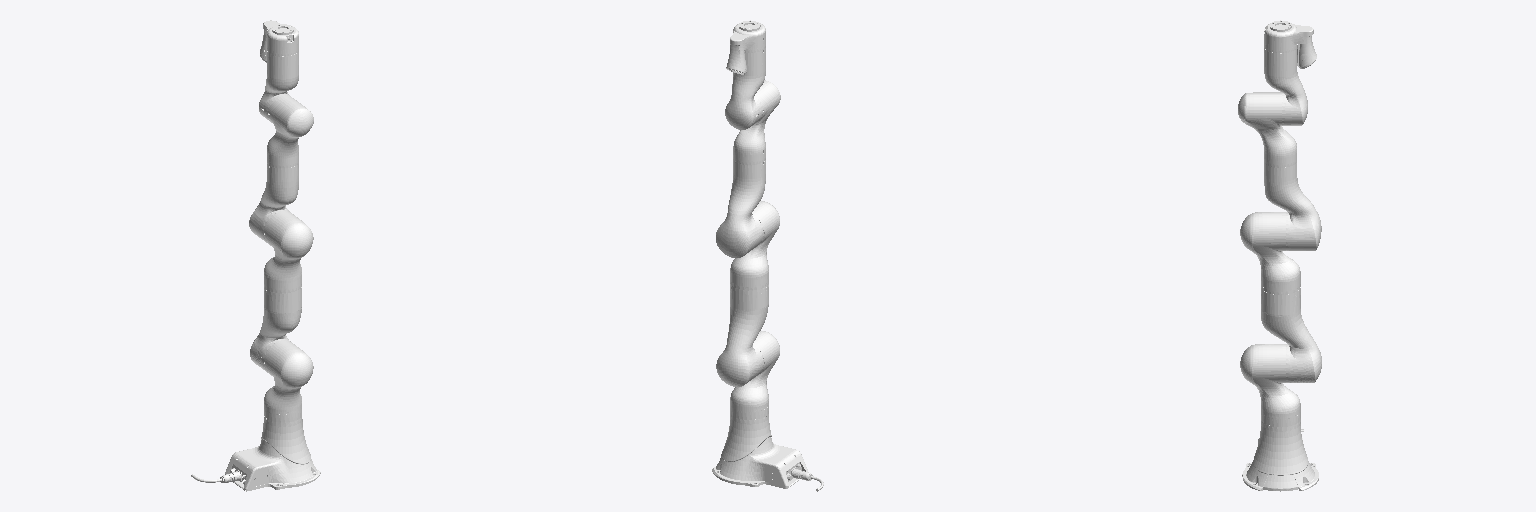
URDF robot description (xmate3p):
<?xml version="1.0" encoding="utf-8"?>
<!-- This URDF was automatically created by SolidWorks to URDF Exporter! Originally created by [author] ([email redacted]) 
     Commit Version: 1.6.0-1-g15f4949  Build Version: 1.6.7594.29634
     For more information, please see http://wiki.ros.org/sw_urdf_exporter -->
<robot
  name="xmate3p">
  <link
    name="base_link">
    <inertial>
      <origin
        xyz="-0.015091360234716 4.56135683096622E-05 0.0624086188001657"
        rpy="0 0 0" />
      <mass
        value="3.14897165663379" />
      <inertia
        ixx="0.0118099957881921"
        ixy="1.05329502958308E-05"
        ixz="-0.0018000843325847"
        iyy="0.0158485547388248"
        iyz="1.08029035443306E-06"
        izz="0.0129719574437711" />
    </inertial>
    <visual>
      <origin
        xyz="0 0 0"
        rpy="0 0 0" />
      <geometry>
        <mesh
          filename="package://model_description/xmate3p/meshes/base_link.STL" />
      </geometry>
      <material
        name="">
        <color
          rgba="1 1 1 1" />
      </material>
    </visual>
    <collision>
      <origin
        xyz="0 0 0"
        rpy="0 0 0" />
      <geometry>
        <mesh
          filename="package://model_description/xmate3p/meshes/base_link.STL" />
      </geometry>
    </collision>
  </link>
  <link
    name="link1">
    <inertial>
      <origin
        xyz="-0.00025922 -0.025215 0.11962"
        rpy="0 0 0" />
      <mass
        value="1.8004" />
      <inertia
        ixx="0.0095699"
        ixy="-5.5922E-07"
        ixz="-5.8571E-07"
        iyy="0.0085643"
        iyz="0.0019573"
        izz="0.0033056" />
    </inertial>
    <visual>
      <origin
        xyz="0 0 0"
        rpy="0 0 0" />
      <geometry>
        <mesh
          filename="package://model_description/xmate3p/meshes/link1.STL" />
      </geometry>
      <material
        name="">
        <color
          rgba="1 1 1 1" />
      </material>
    </visual>
    <collision>
      <origin
        xyz="0 0 0"
        rpy="0 0 0" />
      <geometry>
        <mesh
          filename="package://model_description/xmate3p/meshes/link1.STL" />
      </geometry>
    </collision>
  </link>
  <joint
    name="joint1"
    type="revolute">
    <origin
      xyz="0.0042608 -5.9631E-05 0.16844"
      rpy="0 0 0" />
    <parent
      link="base_link" />
    <child
      link="link1" />
    <axis
      xyz="0 0 1" />
    <limit
      lower="-2.967"
      upper="2.967"
      effort="100"
      velocity="100" />
  </joint>
  <link
    name="link2">
    <inertial>
      <origin
        xyz="-7.71963204856322E-06 0.00806548573205907 0.0949824454097805"
        rpy="0 0 0" />
      <mass
        value="2.1851012084317" />
      <inertia
        ixx="0.0179598444816337"
        ixy="6.72005684992317E-07"
        ixz="-1.92493798049796E-07"
        iyy="0.0162934935793924"
        iyz="0.00456695536940276"
        izz="0.00446693295470817" />
    </inertial>
    <visual>
      <origin
        xyz="0 0 0"
        rpy="0 0 0" />
      <geometry>
        <mesh
          filename="package://model_description/xmate3p/meshes/link2.STL" />
      </geometry>
      <material
        name="">
        <color
          rgba="1 1 1 1" />
      </material>
    </visual>
    <collision>
      <origin
        xyz="0 0 0"
        rpy="0 0 0" />
      <geometry>
        <mesh
          filename="package://model_description/xmate3p/meshes/link2.STL" />
      </geometry>
    </collision>
  </link>
  <joint
    name="joint2"
    type="revolute">
    <origin
      xyz="-0.00026107 0.019633 0.17276"
      rpy="0 0 0" />
    <parent
      link="link1" />
    <child
      link="link2" />
    <axis
      xyz="0 1 0" />
    <limit
      lower="-2.094"
      upper="2.094"
      effort="100"
      velocity="100" />
  </joint>
  <link
    name="link3">
    <inertial>
      <origin
        xyz="1.83491748824072E-06 -0.025268072019476 0.106954324405955"
        rpy="0 0 0" />
      <mass
        value="1.80045507711239" />
      <inertia
        ixx="0.009570539674734"
        ixy="-5.63735078403178E-07"
        ixz="-6.0500648082681E-07"
        iyy="0.00856439929687802"
        iyz="0.00195821644467193"
        izz="0.00330613229822486" />
    </inertial>
    <visual>
      <origin
        xyz="0 0 0"
        rpy="0 0 0" />
      <geometry>
        <mesh
          filename="package://model_description/xmate3p/meshes/link3.STL" />
      </geometry>
      <material
        name="">
        <color
          rgba="1 1 1 1" />
      </material>
    </visual>
    <collision>
      <origin
        xyz="0 0 0"
        rpy="0 0 0" />
      <geometry>
        <mesh
          filename="package://model_description/xmate3p/meshes/link3.STL" />
      </geometry>
    </collision>
  </link>
  <joint
    name="joint3"
    type="revolute">
    <origin
      xyz="0 -0.019574 0.2339"
      rpy="0 0 0" />
    <parent
      link="link2" />
    <child
      link="link3" />
    <axis
      xyz="0 0 1" />
    <limit
      lower="-2.967"
      upper="2.967"
      effort="100"
      velocity="100" />
  </joint>
  <link
    name="link4">
    <inertial>
      <origin
        xyz="2.6565854771058E-06 0.0133168201264488 0.0756674818518959"
        rpy="0 0 0" />
      <mass
        value="1.80003368124098" />
      <inertia
        ixx="0.0130994533098041"
        ixy="1.36284854708963E-07"
        ixz="-5.92055668378373E-07"
        iyy="0.0117535662054175"
        iyz="0.00347706804921294"
        izz="0.00336527705329235" />
    </inertial>
    <visual>
      <origin
        xyz="0 0 0"
        rpy="0 0 0" />
      <geometry>
        <mesh
          filename="package://model_description/xmate3p/meshes/link4.STL" />
      </geometry>
      <material
        name="">
        <color
          rgba="1 1 1 1" />
      </material>
    </visual>
    <collision>
      <origin
        xyz="0 0 0"
        rpy="0 0 0" />
      <geometry>
        <mesh
          filename="package://model_description/xmate3p/meshes/link4.STL" />
      </geometry>
    </collision>
  </link>
  <joint
    name="joint4"
    type="revolute">
    <origin
      xyz="0 0.0196 0.1604"
      rpy="0 0 0" />
    <parent
      link="link3" />
    <child
      link="link4" />
    <axis
      xyz="0 1 0" />
    <limit
      lower="-2.094"
      upper="2.094"
      effort="100"
      velocity="100" />
  </joint>
  <link
    name="link5">
    <inertial>
      <origin
        xyz="1.25130563160484E-05 -0.0312770106676637 0.10470207994546"
        rpy="0 0 0" />
      <mass
        value="1.29595892372392" />
      <inertia
        ixx="0.00598570038305338"
        ixy="-4.67875753164966E-07"
        ixz="5.61444849450011E-07"
        iyy="0.00489860850115636"
        iyz="0.00152659864778688"
        izz="0.00226768548743438" />
    </inertial>
    <visual>
      <origin
        xyz="0 0 0"
        rpy="0 0 0" />
      <geometry>
        <mesh
          filename="package://model_description/xmate3p/meshes/link5.STL" />
      </geometry>
      <material
        name="">
        <color
          rgba="1 1 1 1" />
      </material>
    </visual>
    <collision>
      <origin
        xyz="0 0 0"
        rpy="0 0 0" />
      <geometry>
        <mesh
          filename="package://model_description/xmate3p/meshes/link5.STL" />
      </geometry>
    </collision>
  </link>
  <joint
    name="joint5"
    type="revolute">
    <origin
      xyz="0 -0.0196 0.2156"
      rpy="0 0 0" />
    <parent
      link="link4" />
    <child
      link="link5" />
    <axis
      xyz="0 0 1" />
    <limit
      lower="-2.967"
      upper="2.967"
      effort="100"
      velocity="100" />
  </joint>
  <link
    name="link6">
    <inertial>
      <origin
        xyz="1.11743579776372E-05 0.00542778918890232 0.0842925312965763"
        rpy="0 0 0" />
      <mass
        value="1.22513525609944" />
      <inertia
        ixx="0.0062839615268434"
        ixy="-1.43677994204335E-07"
        ixz="3.43793365441653E-07"
        iyy="0.00598571888406249"
        iyz="0.00128424062046448"
        izz="0.00146487804256938" />
    </inertial>
    <visual>
      <origin
        xyz="0 0 0"
        rpy="0 0 0" />
      <geometry>
        <mesh
          filename="package://model_description/xmate3p/meshes/link6.STL" />
      </geometry>
      <material
        name="">
        <color
          rgba="1 1 1 1" />
      </material>
    </visual>
    <collision>
      <origin
        xyz="0 0 0"
        rpy="0 0 0" />
      <geometry>
        <mesh
          filename="package://model_description/xmate3p/meshes/link6.STL" />
      </geometry>
    </collision>
  </link>
  <joint
    name="joint6"
    type="revolute">
    <origin
      xyz="0 0.00972 0.1504"
      rpy="0 0 0" />
    <parent
      link="link5" />
    <child
      link="link6" />
    <axis
      xyz="0 1 0" />
    <limit
      lower="-2.094"
      upper="2.094"
      effort="100"
      velocity="100" />
  </joint>
  <link
    name="link7">
    <inertial>
      <origin
        xyz="4.62021200668606E-05 0.0230545844058025 -0.0447538097295144"
        rpy="0 0 0" />
      <mass
        value="0.542707965692323" />
      <inertia
        ixx="0.00116620579896998"
        ixy="-2.34444546578733E-07"
        ixz="-4.26342180924484E-07"
        iyy="0.000638472104930667"
        iyz="0.000282302091216014"
        izz="0.000951797511362842" />
    </inertial>
    <visual>
      <origin
        xyz="0 0 0"
        rpy="0 0 0" />
      <geometry>
        <mesh
          filename="package://model_description/xmate3p/meshes/link7.STL" />
      </geometry>
      <material
        name="">
        <color
          rgba="1 1 1 1" />
      </material>
    </visual>
    <collision>
      <origin
        xyz="0 0 0"
        rpy="0 0 0" />
      <geometry>
        <mesh
          filename="package://model_description/xmate3p/meshes/link7.STL" />
      </geometry>
    </collision>
  </link>
  <joint
    name="joint7"
    type="revolute">
    <origin
      xyz="0 -0.00972 0.2503"
      rpy="0 0 0" />
    <parent
      link="link6" />
    <child
      link="link7" />
    <axis
      xyz="0 0 1" />
    <limit
      lower="-2.967"
      upper="2.967"
      effort="100"
      velocity="100" />
  </joint>
</robot>

--- What the picture shows (computed from the rendered views, not written in the file) ---
3 views of the same robot in one strip: view 1: azimuth 30°, elevation 25°; view 2: azimuth 150°, elevation 25°; view 3: azimuth 270°, elevation 25° (orthographic).
Model xmate3p with 8 links and 7 joints (7 revolute), rooted at base_link, posed every joint at zero.
Visible links, largest first — view 1: base_link, link1, link3, link5, link2, link4, link6, link7; view 2: base_link, link2, link4, link6, link3, link1, link5, link7; view 3: base_link, link2, link1, link3, link4, link5, link6, link7.
Link boxes in pixels (box(x1,y1,x2,y2)): base_link: box(191, 417, 320, 491); link1: box(264, 340, 313, 422); link3: box(264, 211, 313, 293); link5: box(267, 95, 313, 168); link2: box(250, 288, 301, 372); link4: box(249, 164, 298, 242); link6: box(259, 52, 298, 122); link7: box(260, 20, 298, 62); base_link: box(712, 413, 823, 491); link2: box(716, 284, 768, 386); link4: box(716, 159, 765, 257); link6: box(725, 48, 765, 129); link3: box(730, 201, 779, 290); link1: box(730, 331, 779, 419); link5: box(733, 80, 780, 165); link7: box(726, 20, 765, 74); base_link: box(1242, 420, 1318, 491); link2: box(1261, 288, 1321, 382); link1: box(1240, 344, 1300, 426); link3: box(1240, 212, 1300, 295); link4: box(1264, 162, 1321, 250); link5: box(1238, 92, 1296, 167); link6: box(1264, 48, 1307, 125); link7: box(1264, 20, 1316, 68).
Size in the robot's own frame: 0.345 by 0.2291 by 1.35 metres.
Meshes: 8 distinct files referenced, 8 mesh visuals loaded (8 binary STL).